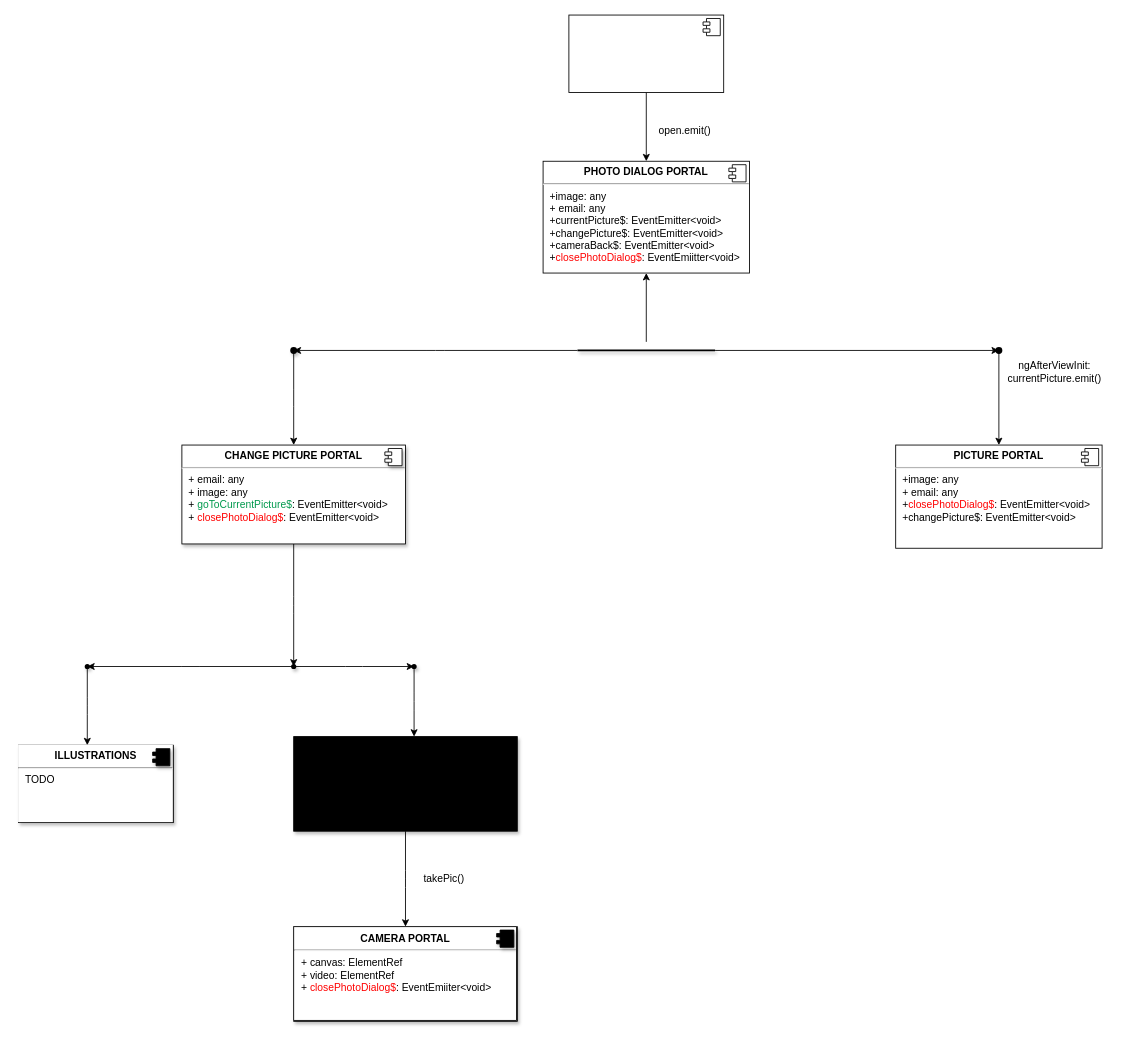
This 1134x1042 diagram has some shape labels left out. Here are the shapes that lost their labels. From the top down, the centre of each, then its label:
(x=646, y=53): PHOTO BUTTON +image: any + email: any + open: EventEmitter<void>
(x=405, y=784): FROM COMPUTER + takePic()
